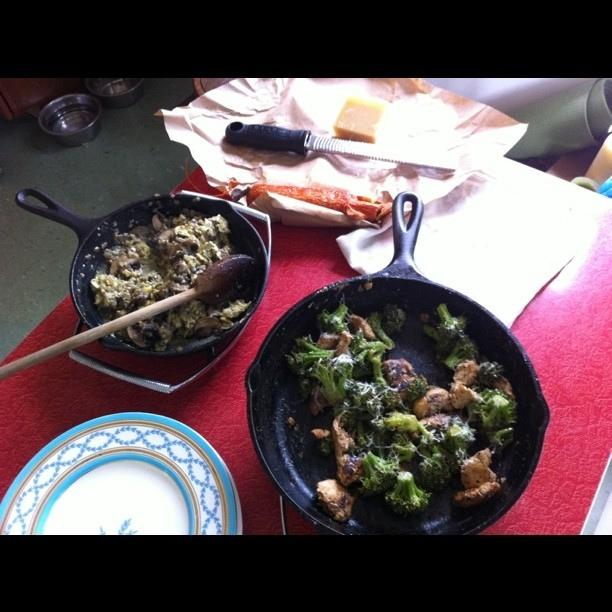broccoli: (344, 347, 403, 417), (308, 354, 354, 407), (284, 333, 337, 376), (384, 470, 432, 517), (434, 416, 476, 469), (472, 388, 518, 430), (358, 452, 400, 498), (414, 454, 452, 492), (441, 334, 480, 371), (334, 398, 374, 432), (436, 304, 468, 338), (316, 303, 349, 334), (348, 328, 381, 358), (388, 432, 416, 464), (379, 303, 407, 335), (473, 362, 504, 390), (383, 410, 418, 432), (352, 349, 373, 379), (424, 309, 442, 340), (406, 377, 427, 403), (356, 421, 368, 446)
